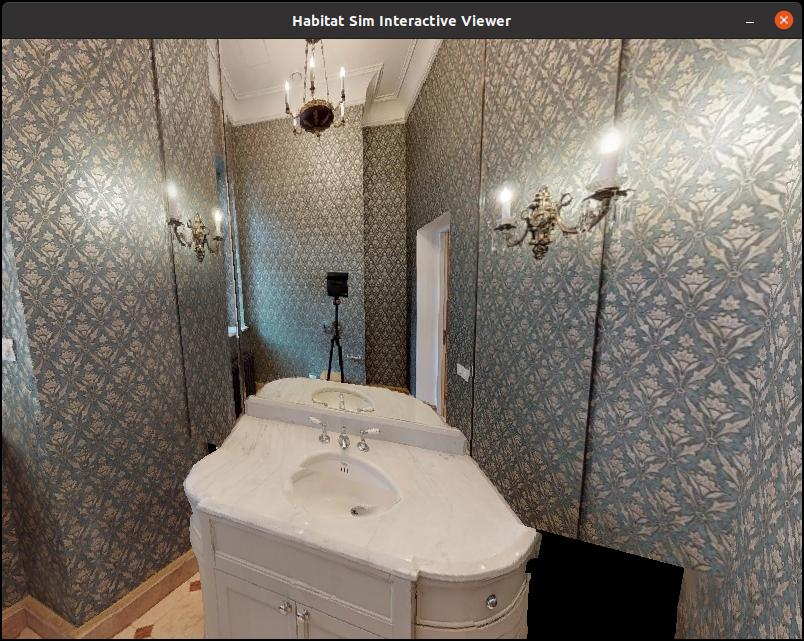sink: (246, 388, 435, 546)
